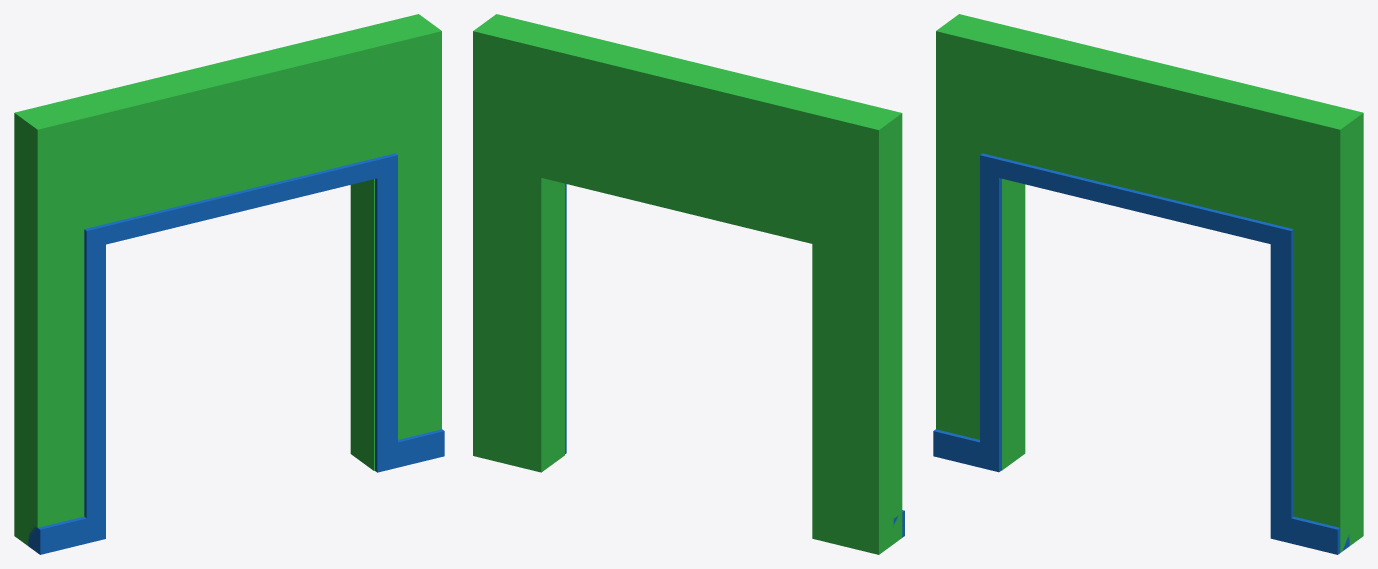
File: SM_wall3.fbx
3 renders of one model, left to right at view 1: azimuth 30°, elevation 25°; view 2: azimuth 150°, elevation 25°; view 3: azimuth 330°, elevation 25°, orthographic.
Visible parts, largest first — view 1: wall3; view 2: wall3; view 3: wall3.
Boxes of the visible parts, x1,y1,x2,y2 form: wall3: [14, 14, 444, 554]; wall3: [473, 14, 904, 554]; wall3: [933, 14, 1363, 554].
Bounding box in the file's own units: 300 × 300 × 33.28.
